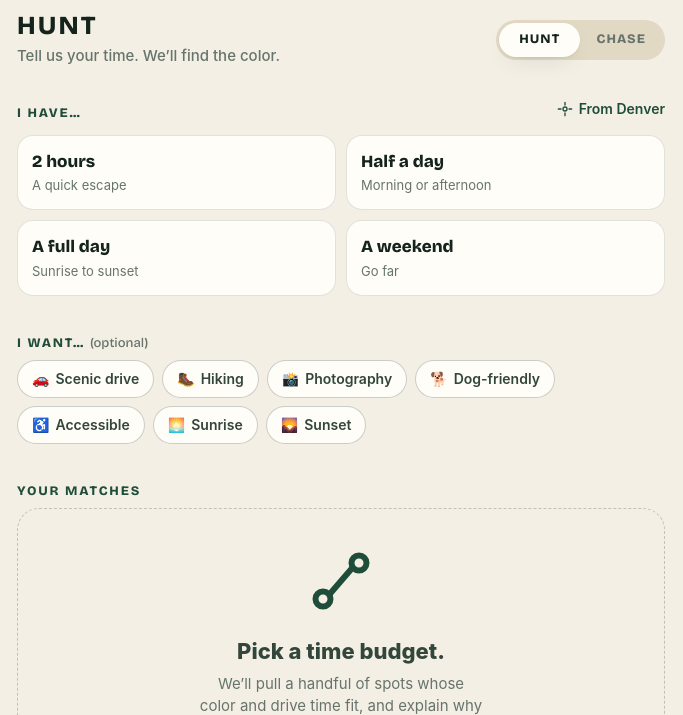
Test case: Hunt › produces explained matches for a time budget
Step 1. Click the radio button labelled "Half a day Morning or afternoon" → coordinates (403, 161), box [346,135,665,210]
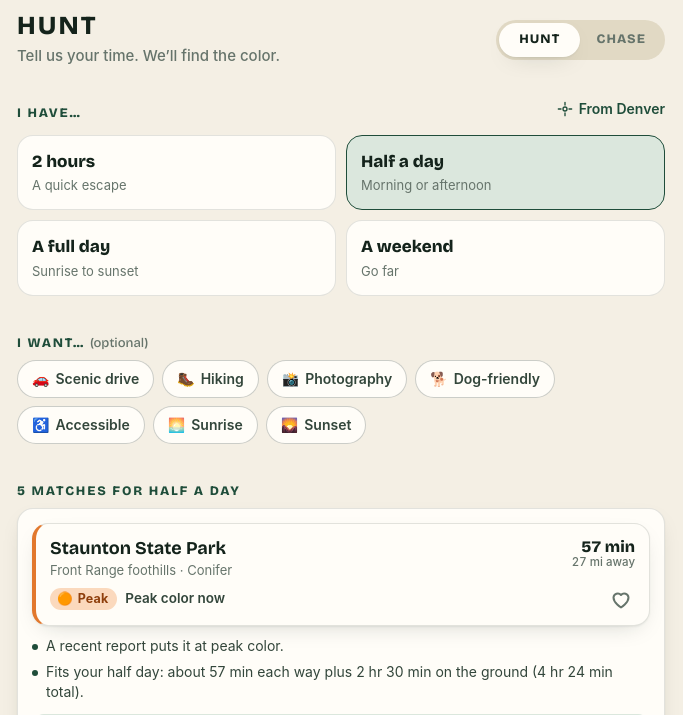
Result: the heading "5 matches for half a day" is shown at [17,483,241,499]
Result: the list named "Why it fits" is shown at [32,636,650,702]
